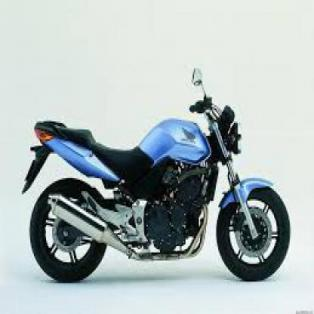Motocicleta: (26, 78, 293, 282)
